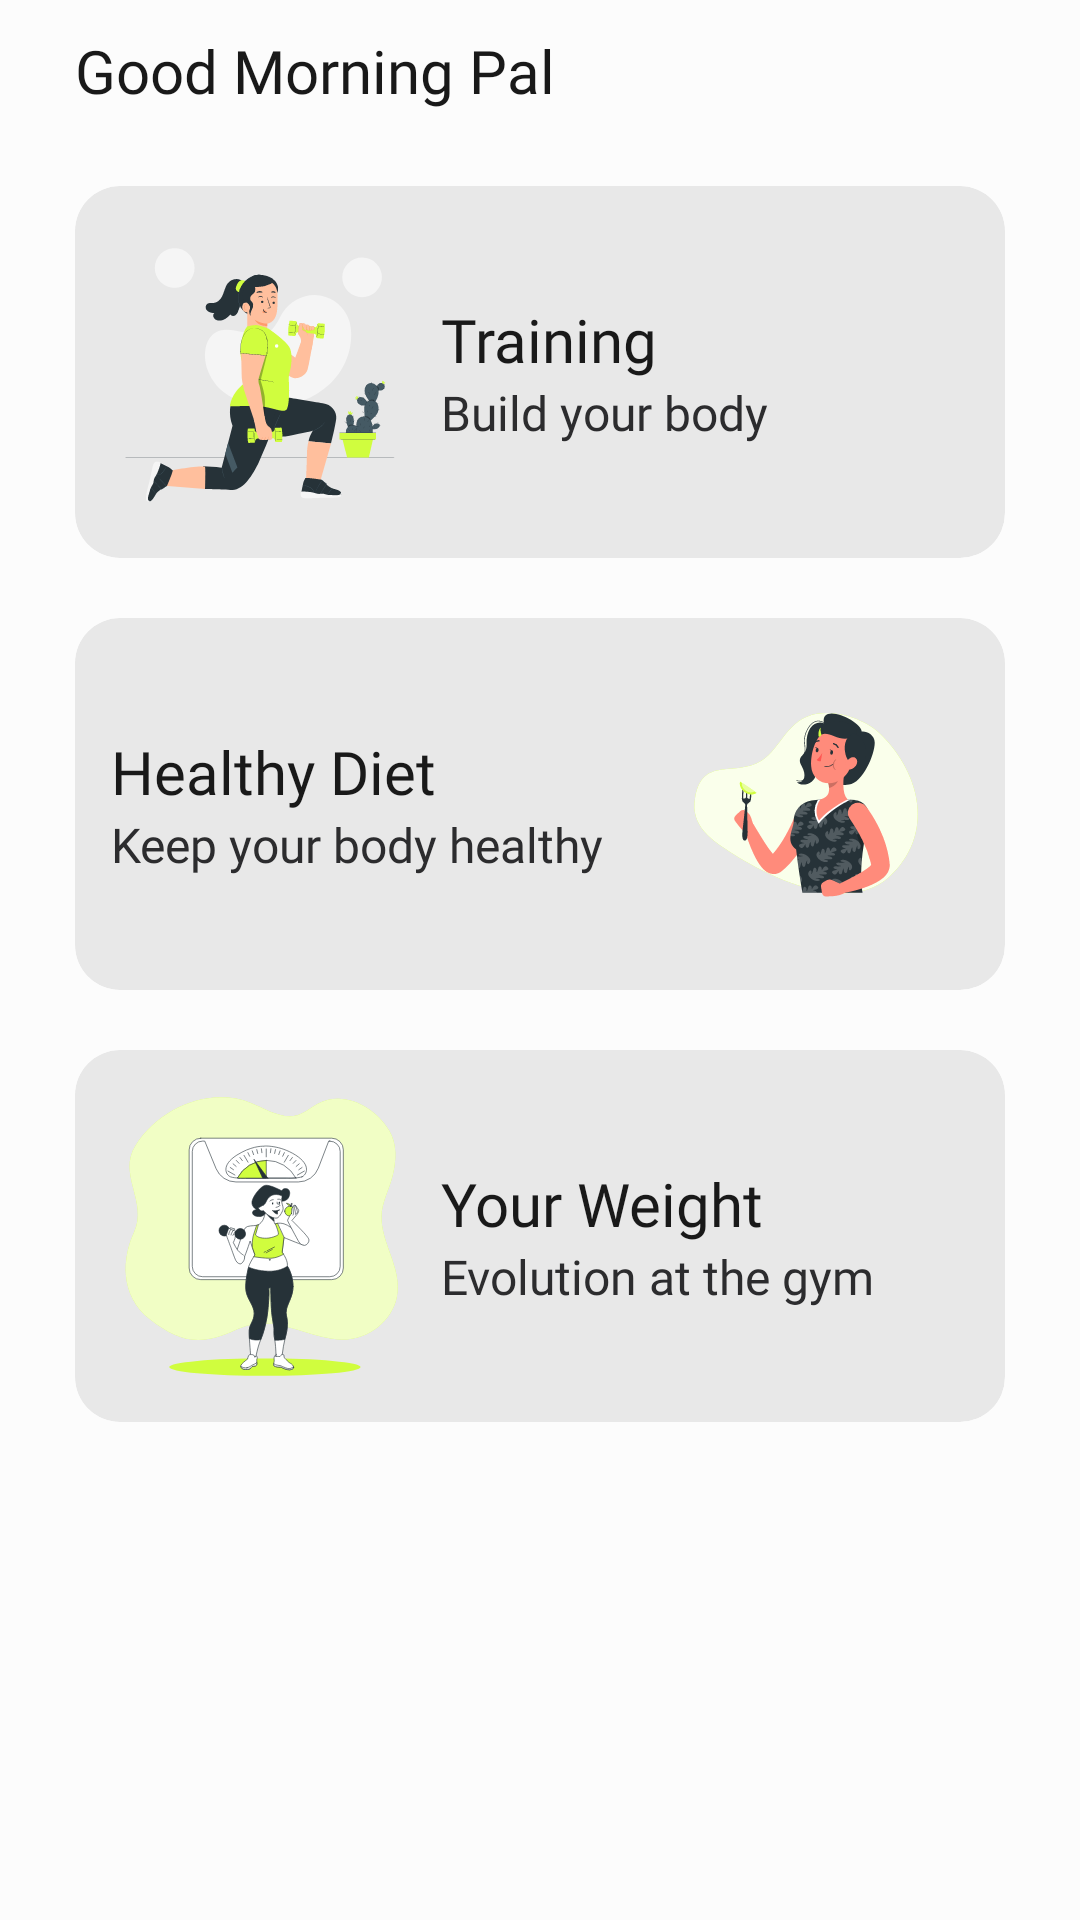

Where to tap for icons on this 1080px x 1920px app screen, as point (x, y):
healthy food: point (806, 805)
